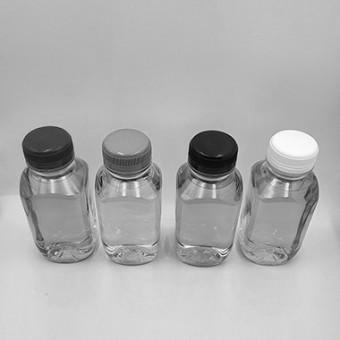bottle: (229, 127, 318, 270), (16, 120, 100, 270), (90, 121, 172, 266), (169, 128, 243, 271)
